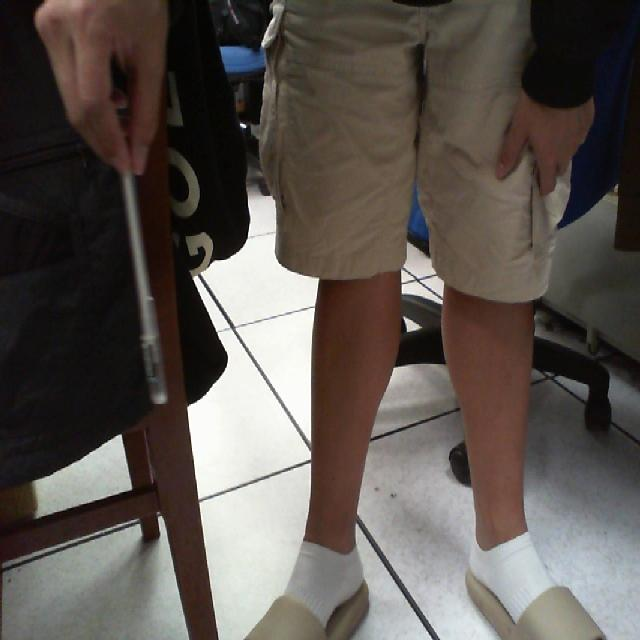Pen: (107, 125, 175, 419)
